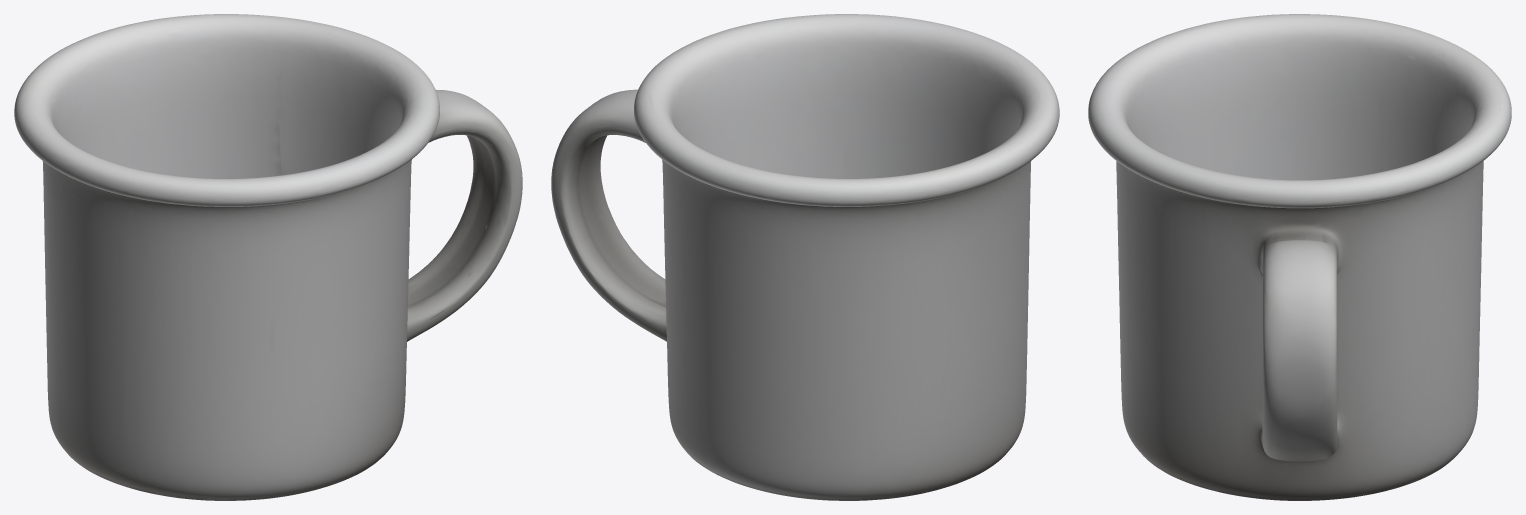
The model's file is 搪瓷杯.glb.
3 renders of one model, left to right at view 1: azimuth 30°, elevation 25°; view 2: azimuth 150°, elevation 25°; view 3: azimuth 270°, elevation 25°, orthographic.
Visible parts, largest first — view 1: node_0; view 2: node_0; view 3: node_0.
Boxes of the visible parts, bbox=[...] form: node_0: bbox=[14, 14, 522, 500]; node_0: bbox=[551, 14, 1059, 500]; node_0: bbox=[1088, 14, 1511, 500].
Bounding box in the file's own units: 1.01 × 0.6899 × 0.7922.
Materials: 1 (1 with a texture image).
